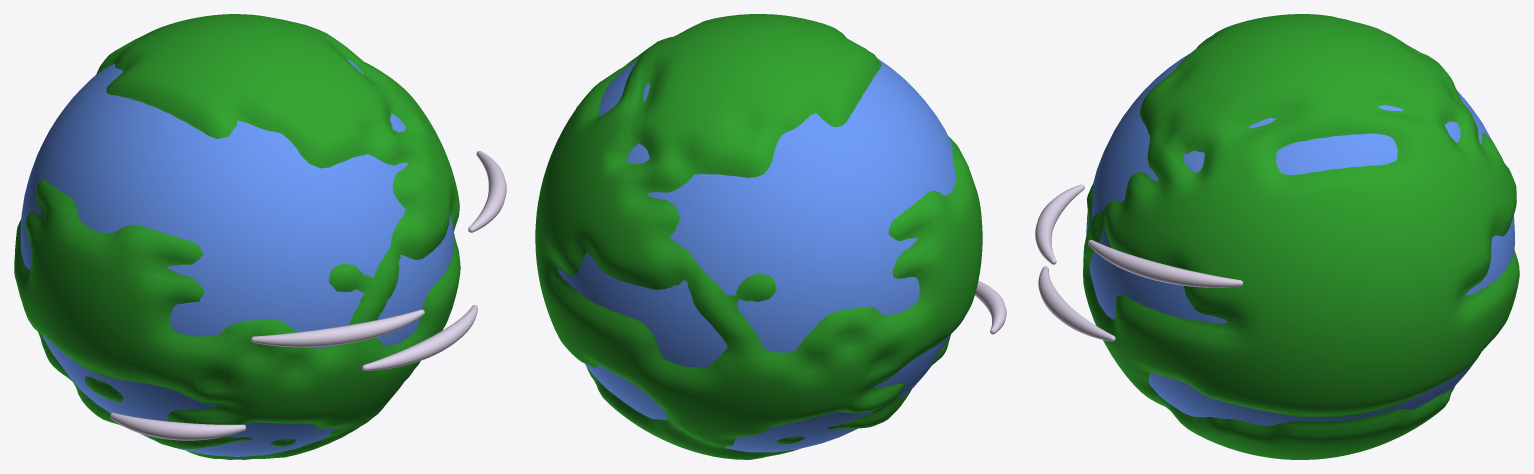
File: earth.glb
3 renders of one model, left to right at view 1: azimuth 30°, elevation 25°; view 2: azimuth 150°, elevation 25°; view 3: azimuth 270°, elevation 25°, orthographic.
Visible parts, largest first — view 1: Cube002, Cube001, NurbsPath, NurbsPath003, NurbsPath001, NurbsPath002; view 2: Cube002, Cube001, NurbsPath003; view 3: Cube002, Cube001, NurbsPath002, NurbsPath001, NurbsPath.
Boxes of the visible parts, bbox=[...] form: Cube002: bbox=[14, 14, 460, 459]; Cube001: bbox=[20, 58, 454, 456]; NurbsPath: bbox=[251, 309, 424, 347]; NurbsPath003: bbox=[110, 412, 245, 440]; NurbsPath001: bbox=[362, 305, 477, 370]; NurbsPath002: bbox=[468, 151, 506, 232]; Cube002: bbox=[535, 14, 982, 459]; Cube001: bbox=[557, 58, 956, 452]; NurbsPath003: bbox=[975, 281, 1006, 334]; Cube002: bbox=[1083, 14, 1519, 459]; Cube001: bbox=[1086, 54, 1514, 426]; NurbsPath002: bbox=[1088, 239, 1242, 287]; NurbsPath001: bbox=[1038, 266, 1115, 341]; NurbsPath: bbox=[1035, 184, 1084, 264].
Size of the model in its own units: 4.32 by 4.11 by 4.47.
